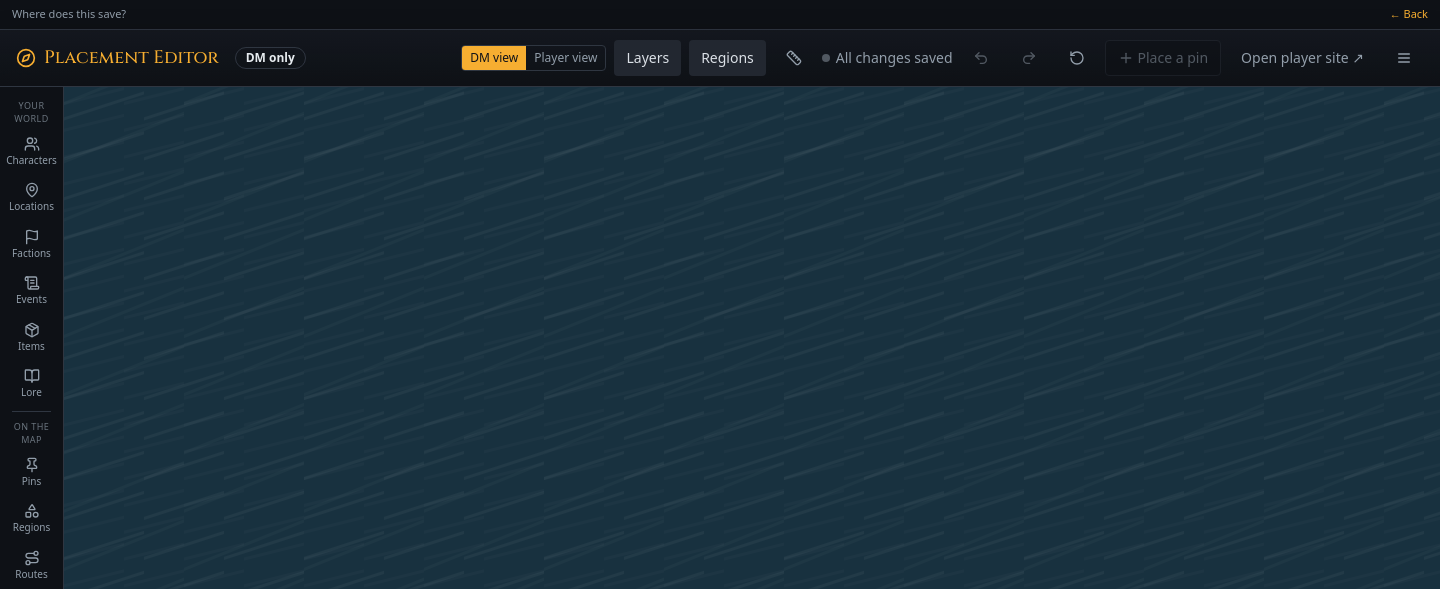
Test case: AtlasPlacementEditor smoke › mounts the real editor page with a fixture atlas
The image size is (1440, 589).
Check: the text "All changes saved" is shown, box left=836, top=48, right=952, bottom=68
Click the button "Locations".
click(32, 197)  # box left=0, top=174, right=63, bottom=220
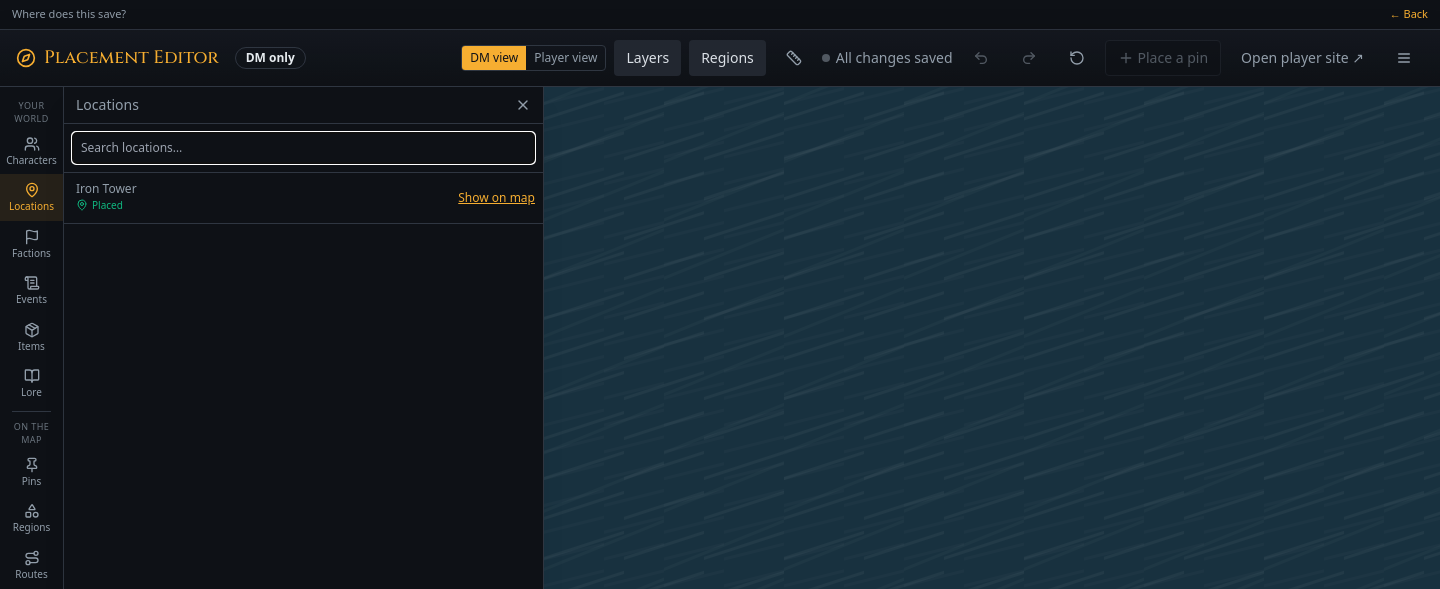
Check: the text "Iron Tower" is shown, box left=76, top=180, right=137, bottom=196
